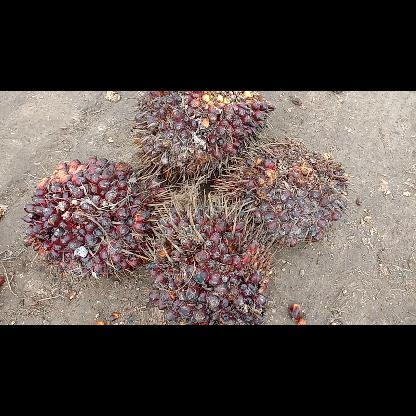TBS masak: (22, 157, 167, 280), (148, 188, 276, 324), (212, 134, 358, 246), (125, 92, 275, 184)
